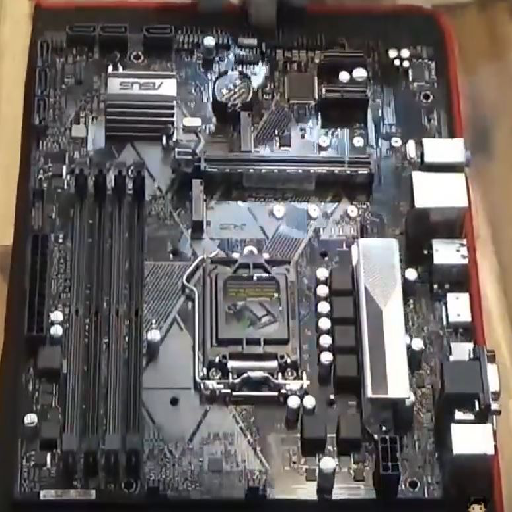CPU: (205, 246, 307, 402)
GPU: (173, 147, 377, 188)
MOTHERBOARD: (17, 30, 477, 504)
RAM: (57, 159, 149, 473)
SSD: (189, 179, 208, 236), (237, 110, 254, 151)
